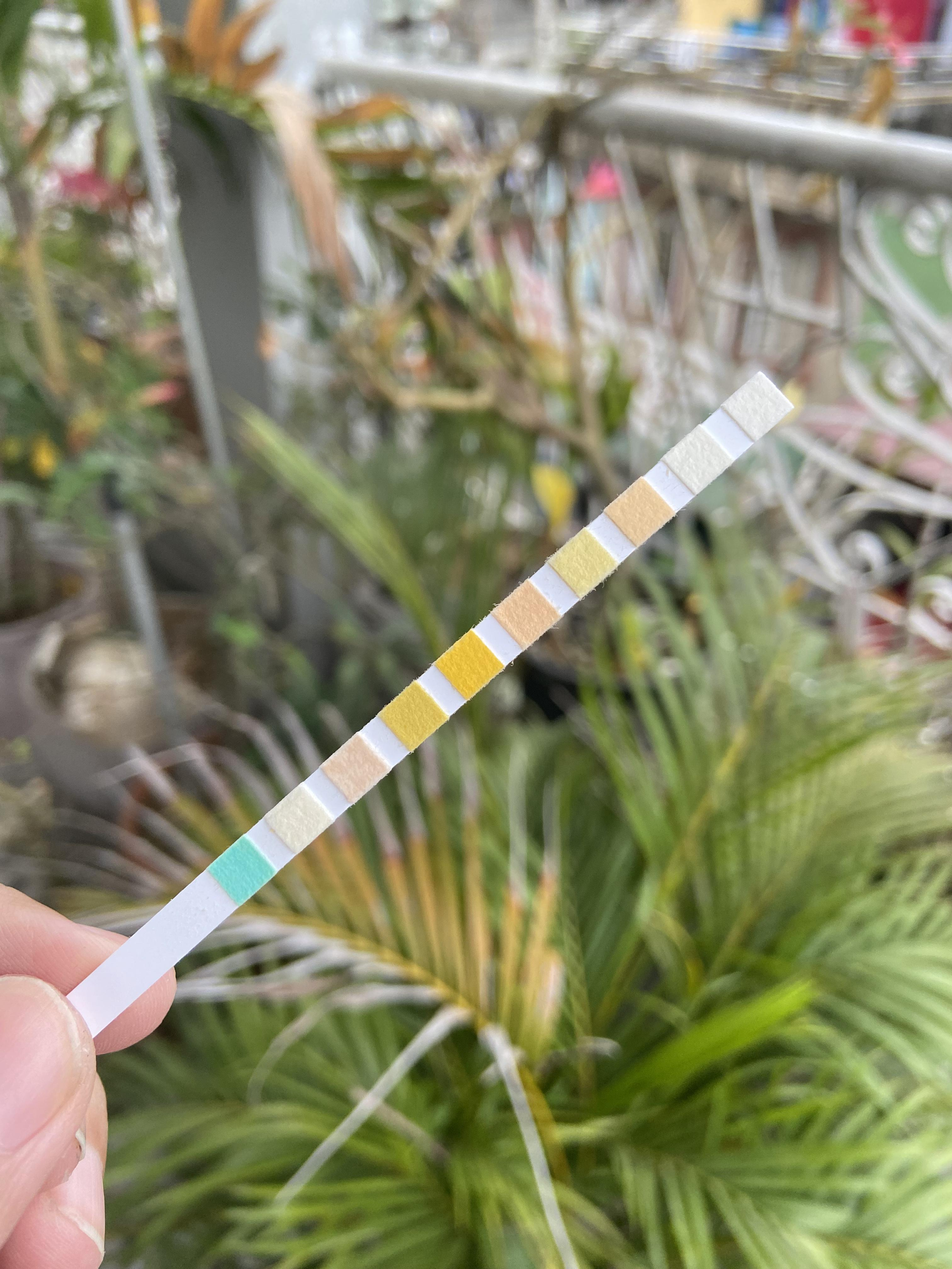Bilirubin: (281, 800, 317, 838)
Blood: (451, 647, 489, 683)
Glucose: (223, 851, 262, 888)
Ketone: (337, 750, 373, 786)
Leukocytes: (739, 388, 777, 423)
Nitrite: (682, 442, 716, 479)
Protein: (567, 544, 600, 581)
SpGravity: (397, 698, 434, 735)
Urobilinogen: (621, 494, 656, 530)
pH: (507, 596, 544, 631)
strip: (66, 372, 793, 1039)
